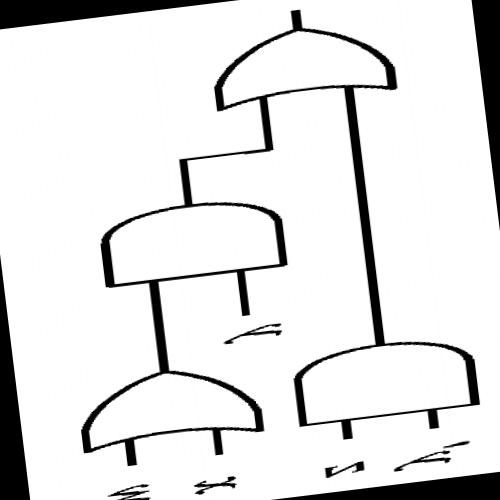and: (82, 188, 304, 293), (276, 328, 488, 432)
or: (196, 11, 410, 117), (65, 353, 275, 456)
